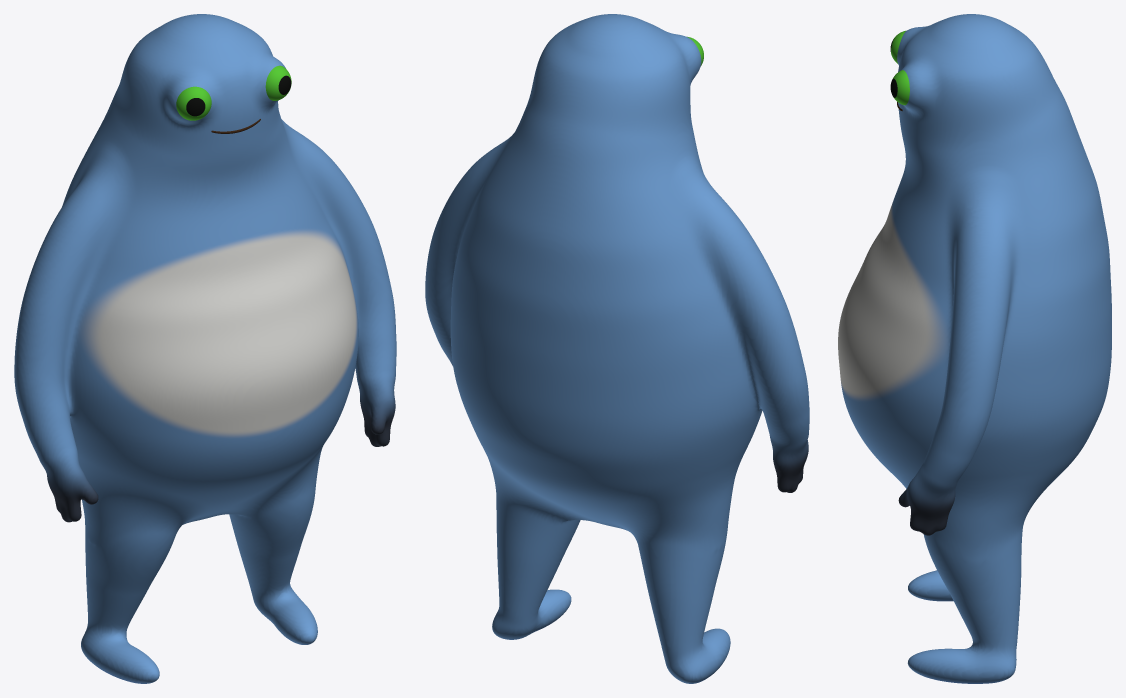
File: naiwa_sky.glb
3 renders of one model, left to right at view 1: azimuth 30°, elevation 25°; view 2: azimuth 150°, elevation 25°; view 3: azimuth 270°, elevation 25°, orthographic. The views are drawn at different scales.
Visible parts, largest first — view 1: Body, Eye_R, Eye_L; view 2: Body; view 3: Body, Eye_L.
Boxes of the visible parts, x1=… form: Body: x1=14, y1=14, x2=396, y2=683; Eye_R: x1=176, y1=86, x2=211, y2=120; Eye_L: x1=265, y1=65, x2=291, y2=100; Body: x1=425, y1=14, x2=809, y2=683; Body: x1=838, y1=14, x2=1111, y2=683; Eye_L: x1=890, y1=70, x2=909, y2=105.
Bounding box in the file's own units: 1.24 × 2 × 0.8055.
